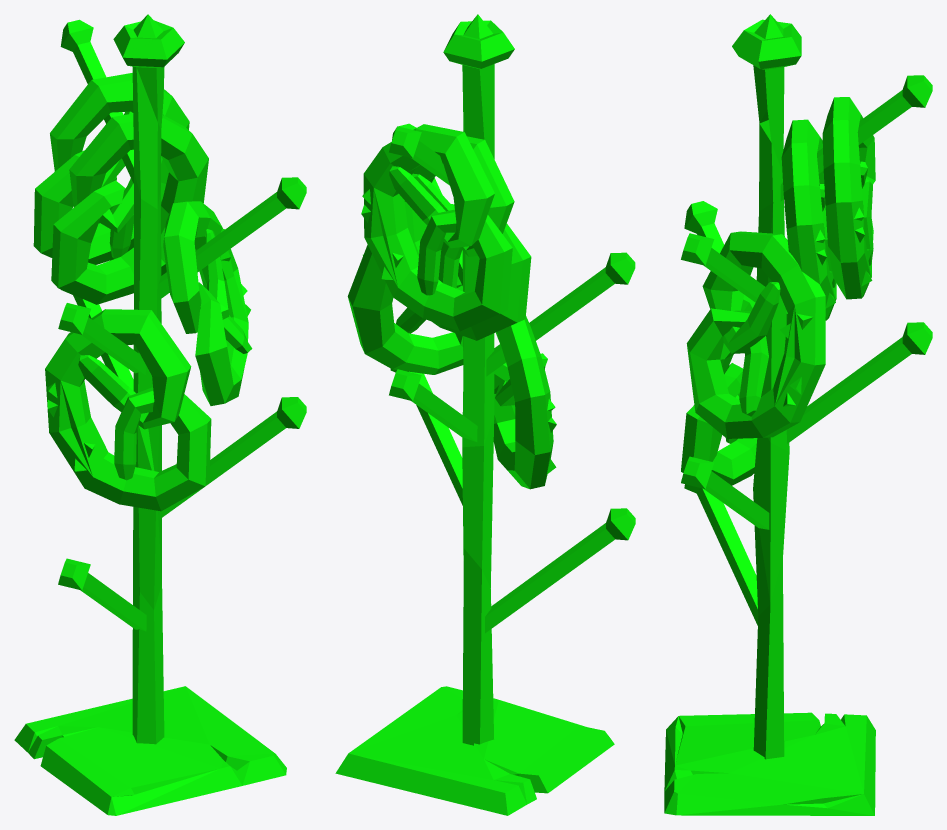
File: SM_Stand_Pretzels_Hanging_Fantasy.fbx
The picture shows the model from 3 angles, left to right: view 1: azimuth 30°, elevation 25°; view 2: azimuth 150°, elevation 25°; view 3: azimuth 270°, elevation 25°; orthographic projection.
Visible parts, largest first — view 1: stand-pretzels-hanging-fantasy; view 2: stand-pretzels-hanging-fantasy; view 3: stand-pretzels-hanging-fantasy.
Boxes of the visible parts, <box> form: stand-pretzels-hanging-fantasy: <box>14,14,306,815</box>; stand-pretzels-hanging-fantasy: <box>335,14,635,815</box>; stand-pretzels-hanging-fantasy: <box>664,14,932,815</box>.
Size of the model in its own units: 0.3311 by 0.9632 by 0.3094.
